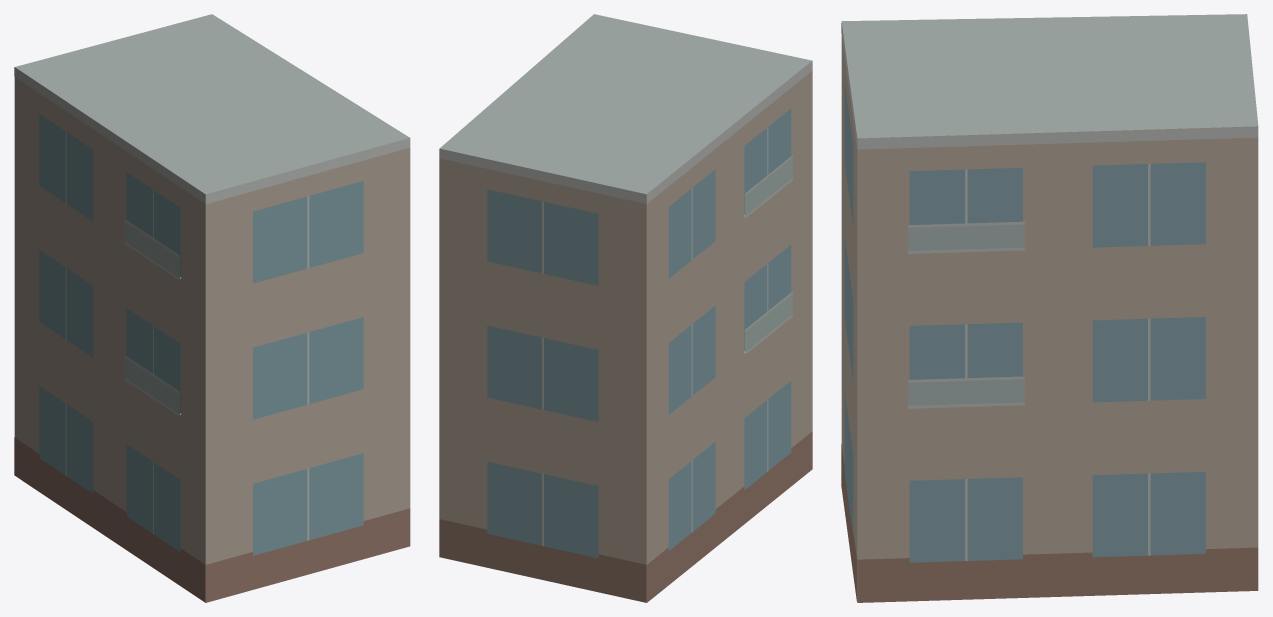
Rendered from survey-upis-32501246.glb.
The picture shows the model from 3 angles, left to right: view 1: azimuth 30°, elevation 25°; view 2: azimuth 150°, elevation 25°; view 3: azimuth 270°, elevation 25°; orthographic projection. The views are drawn at different scales.
Parts seen in each view (by area): view 1: survey-upis-32501246.tmp; view 2: survey-upis-32501246.tmp; view 3: survey-upis-32501246.tmp.
Part boxes in pixels (<box>): survey-upis-32501246.tmp: <box>14,14,410,602</box>; survey-upis-32501246.tmp: <box>439,14,812,602</box>; survey-upis-32501246.tmp: <box>841,14,1258,602</box>.
Size of the model in its own units: 5.87 by 10.2 by 8.31.
